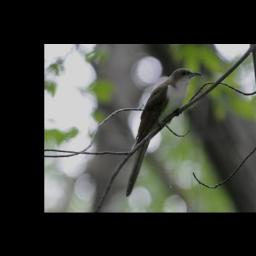Cuckoo: (122, 66, 202, 199)
